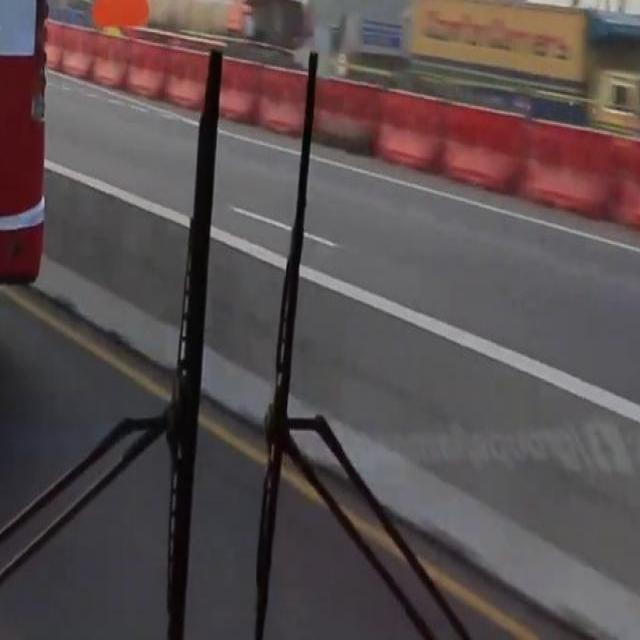vehicle: (409, 4, 640, 123), (2, 4, 48, 280)
